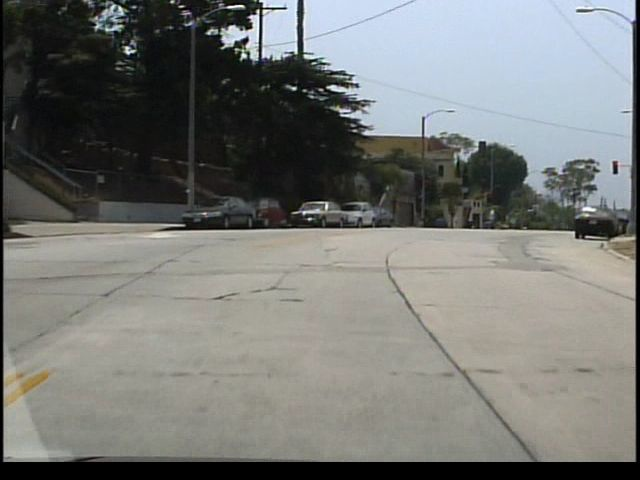person: (493, 206, 500, 229)
